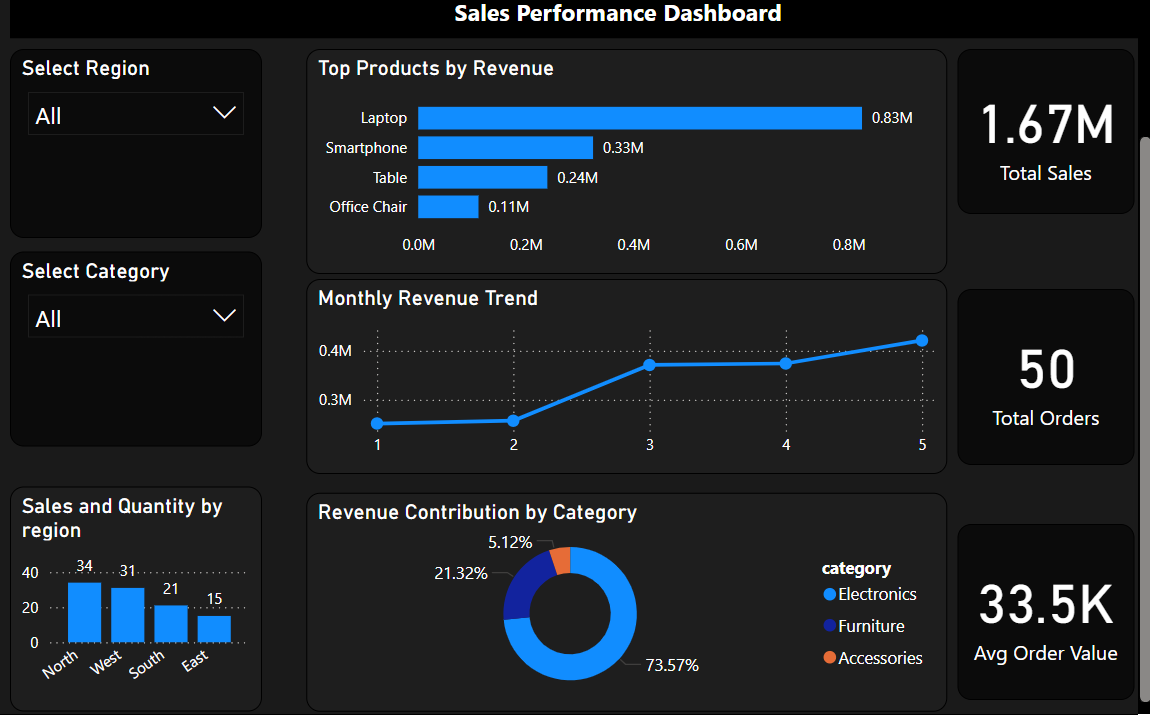

What the dashboard file says about the page in this screenshot:
{"tool":"powerbi","page":{"name":"Page 1","canvas":[1280,720],"ordinal":0},"visuals":[{"type":"donutChart","title":"Revenue Contribution  by Category","fields":{"Y":["Query1.total sales"],"Category":["Query1.category"]},"box":[245,531,513,175],"z":0},{"type":"lineChart","title":"Monthly Revenue Trend","fields":{"Y":["Query1.total sales"],"Category":["Query1.order_month"]},"box":[245,360,513,156],"z":1000},{"type":"clusteredColumnChart","title":"Sales and Quantity by region","fields":{"Category":["Query1.region"],"Y":["Sum(Query1.quantity)"]},"box":[8,526,202,180],"z":2000},{"type":"clusteredBarChart","title":"Top Products by Revenue","fields":{"Y":["Query1.total sales"],"Category":["Query1.product_name"]},"box":[245,176,513,180],"z":3000},{"type":"card","fields":{"Values":["Query1.total sales"]},"box":[766,176,142,132],"z":4000},{"type":"slicer","title":"Select Category","fields":{"Values":["Query1.category"]},"box":[8,338,202,156],"z":5000},{"type":"card","fields":{"Values":["Query1.Total Orders"]},"box":[766,368,142,141],"z":6000},{"type":"card","fields":{"Values":["Query1.Avg Order Value"]},"box":[766,556,142,141],"z":7000},{"type":"slicer","title":"Select Region","fields":{"Values":["Query1.region"]},"box":[8,176,202,151],"z":8000},{"type":"textbox","box":[8,129,974,38],"z":9000}]}

Visuals, with their boxes on the page's 1280x720 design canvas (x1, y1, x2, y2). These are canvas units, not pixel positions in the 1150x715 screenshot, which may show the page scaled, cropped or inside an application window:
"Revenue Contribution  by Category" donutChart: l=245, t=531, r=758, b=706
"Monthly Revenue Trend" lineChart: l=245, t=360, r=758, b=516
"Sales and Quantity by region" clusteredColumnChart: l=8, t=526, r=210, b=706
"Top Products by Revenue" clusteredBarChart: l=245, t=176, r=758, b=356
card - Query1.total sales: l=766, t=176, r=908, b=308
"Select Category" slicer: l=8, t=338, r=210, b=494
card - Query1.Total Orders: l=766, t=368, r=908, b=509
card - Query1.Avg Order Value: l=766, t=556, r=908, b=697
"Select Region" slicer: l=8, t=176, r=210, b=327
textbox: l=8, t=129, r=982, b=167
